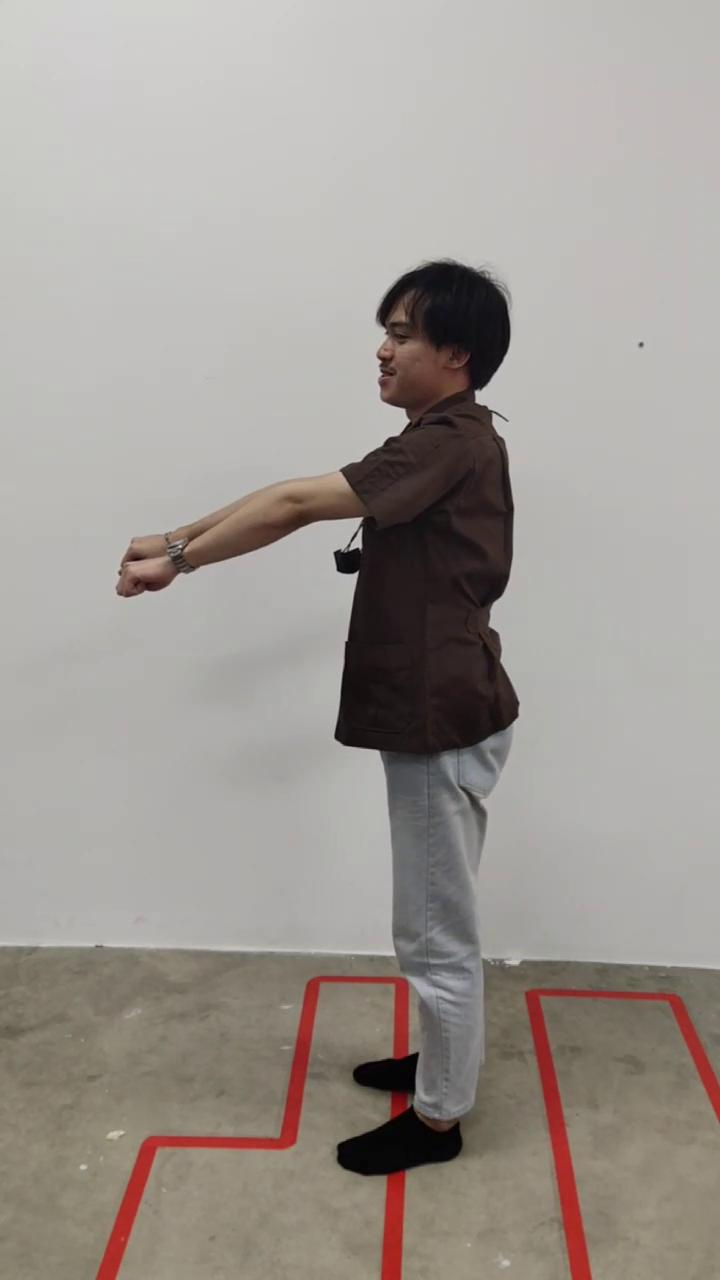squat up: (118, 260, 518, 1175)
